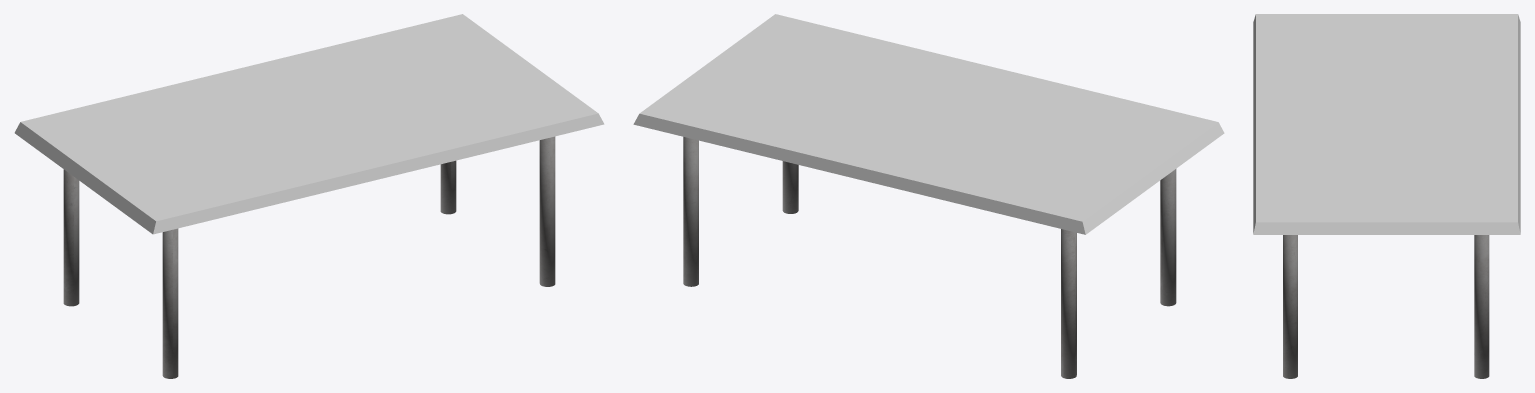
File: table_v1.fbx
3 renders of one model, left to right at view 1: azimuth 30°, elevation 25°; view 2: azimuth 150°, elevation 25°; view 3: azimuth 270°, elevation 25°, orthographic. The views are drawn at different scales.
Visible parts, largest first — view 1: table; view 2: table; view 3: table.
Boxes of the visible parts, x1,y1,x2,y2 form: table: [14, 14, 604, 378]; table: [633, 14, 1224, 378]; table: [1253, 14, 1520, 378].
Bounding box in the file's own units: 664 × 246 × 353.
